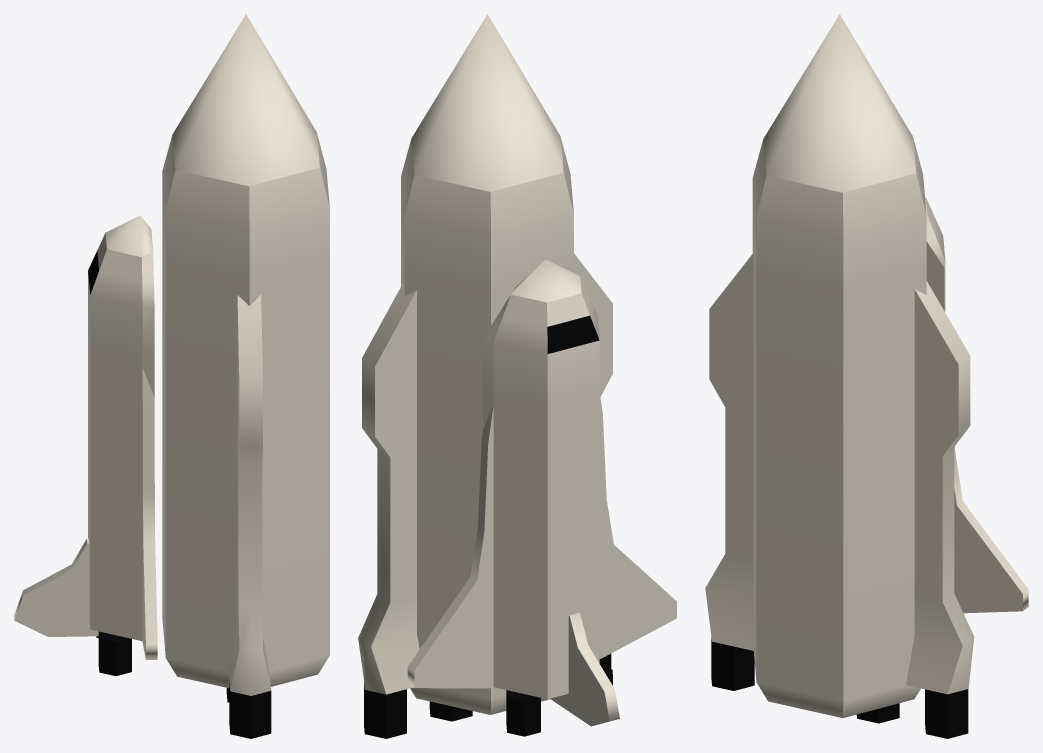
The model's file is tetris-rocket.fbx.
3 renders of one model, left to right at view 1: azimuth 30°, elevation 25°; view 2: azimuth 150°, elevation 25°; view 3: azimuth 270°, elevation 25°, orthographic. The views are drawn at different scales.
Parts seen in each view (by area): view 1: pCylinder27, pCylinder32, pCube12, pCube14, pCube13, pCylinder31, pCylinder34; view 2: pCylinder27, pCylinder32, pCube12, pCube13, pCube14, pCylinder28, pCylinder33, pCylinder29; view 3: pCylinder27, pCube12, pCube13, pCylinder28, pCylinder31, pCylinder32, pCylinder29.
Part boxes in pixels (x1=…): pCylinder27: x1=162, y1=14, x2=329, y2=688; pCylinder32: x1=88, y1=215, x2=154, y2=641; pCube12: x1=228, y1=294, x2=271, y2=695; pCube14: x1=14, y1=538, x2=98, y2=636; pCube13: x1=142, y1=368, x2=157, y2=659; pCylinder31: x1=229, y1=682, x2=271, y2=738; pCylinder34: x1=98, y1=631, x2=131, y2=675; pCylinder27: x1=401, y1=14, x2=573, y2=714; pCylinder32: x1=483, y1=259, x2=599, y2=699; pCube12: x1=358, y1=253, x2=612, y2=694; pCube13: x1=407, y1=393, x2=676, y2=688; pCube14: x1=550, y1=613, x2=619, y2=726; pCylinder28: x1=364, y1=684, x2=406, y2=738; pCylinder33: x1=506, y1=690, x2=540, y2=736; pCylinder29: x1=429, y1=701, x2=472, y2=721; pCylinder27: x1=752, y1=14, x2=926, y2=717; pCube12: x1=705, y1=253, x2=974, y2=694; pCube13: x1=954, y1=446, x2=1028, y2=613; pCylinder28: x1=925, y1=689, x2=968, y2=738; pCylinder31: x1=711, y1=637, x2=754, y2=690; pCylinder32: x1=925, y1=197, x2=945, y2=312; pCylinder29: x1=856, y1=703, x2=899, y2=723.
Size of the model in its own units: 1.28 by 3.1 by 1.32.
